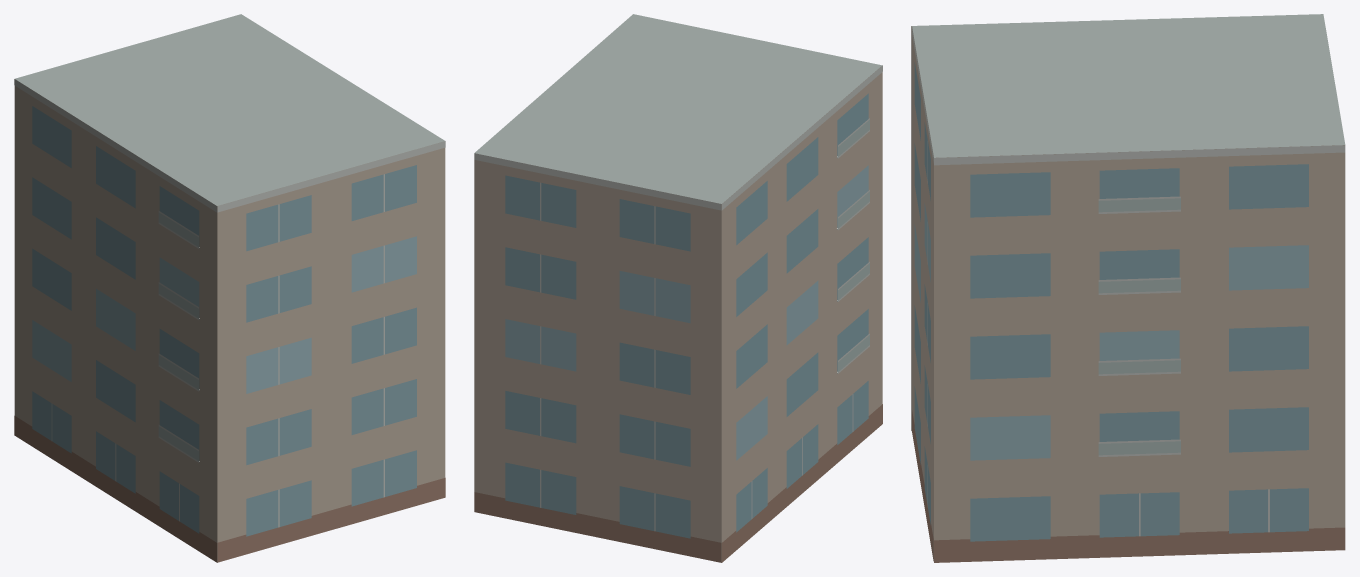
The model's file is survey-upis-32610635.glb.
3 renders of one model, left to right at view 1: azimuth 30°, elevation 25°; view 2: azimuth 150°, elevation 25°; view 3: azimuth 270°, elevation 25°, orthographic. The views are drawn at different scales.
Visible parts, largest first — view 1: survey-upis-32610635.tmp; view 2: survey-upis-32610635.tmp; view 3: survey-upis-32610635.tmp.
Boxes of the visible parts, x1,y1,x2,y2 form: survey-upis-32610635.tmp: (14,14,445,562); survey-upis-32610635.tmp: (474,14,882,562); survey-upis-32610635.tmp: (911,14,1345,562).
Bounding box in the file's own units: 10.06 × 13.2 × 12.83.
